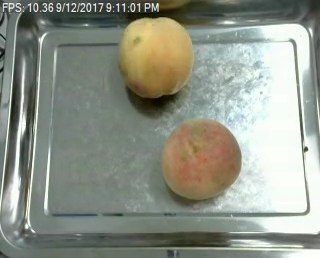Peach: (161, 118, 242, 199), (118, 15, 194, 98)
